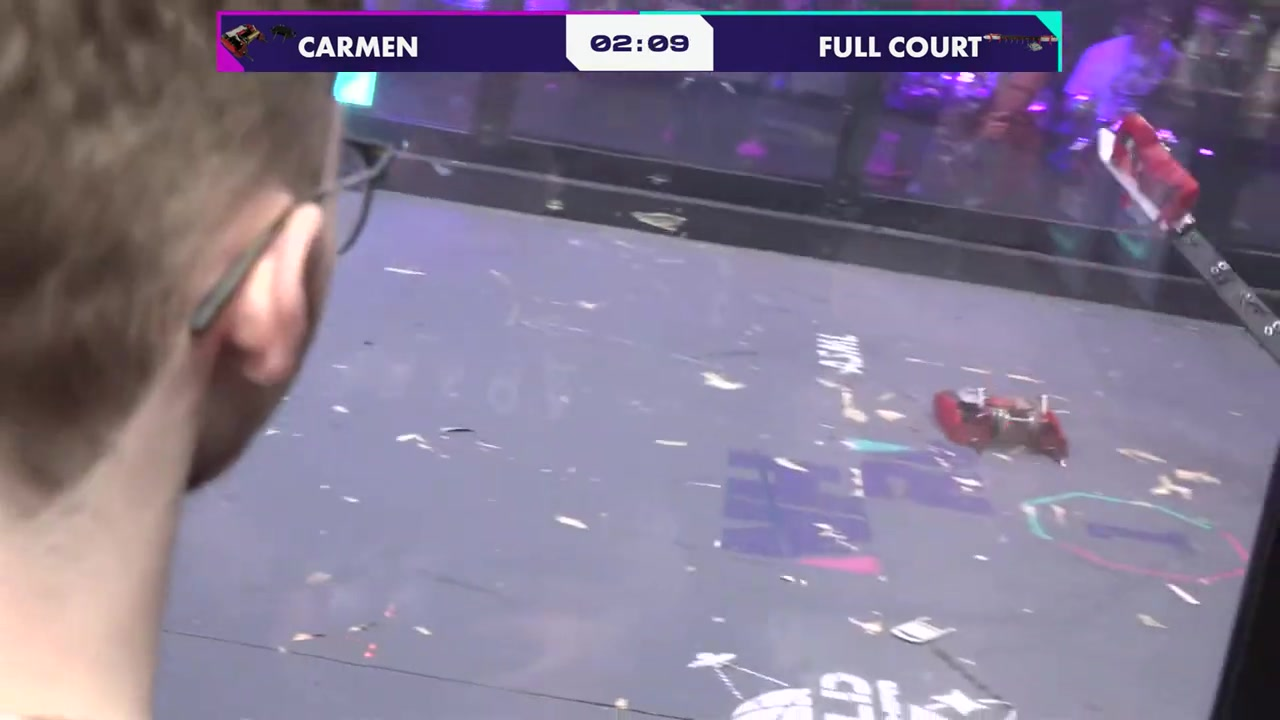combatbot: (933, 388, 1066, 456)
